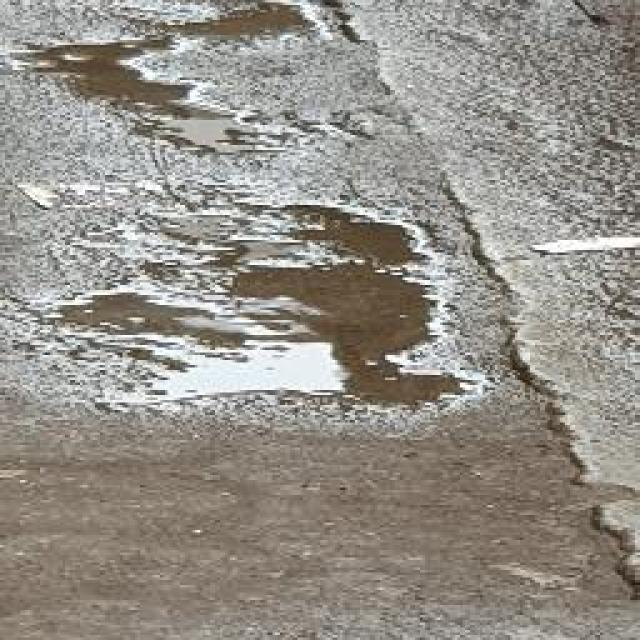stagnation: (12, 187, 501, 445), (0, 4, 408, 170)
